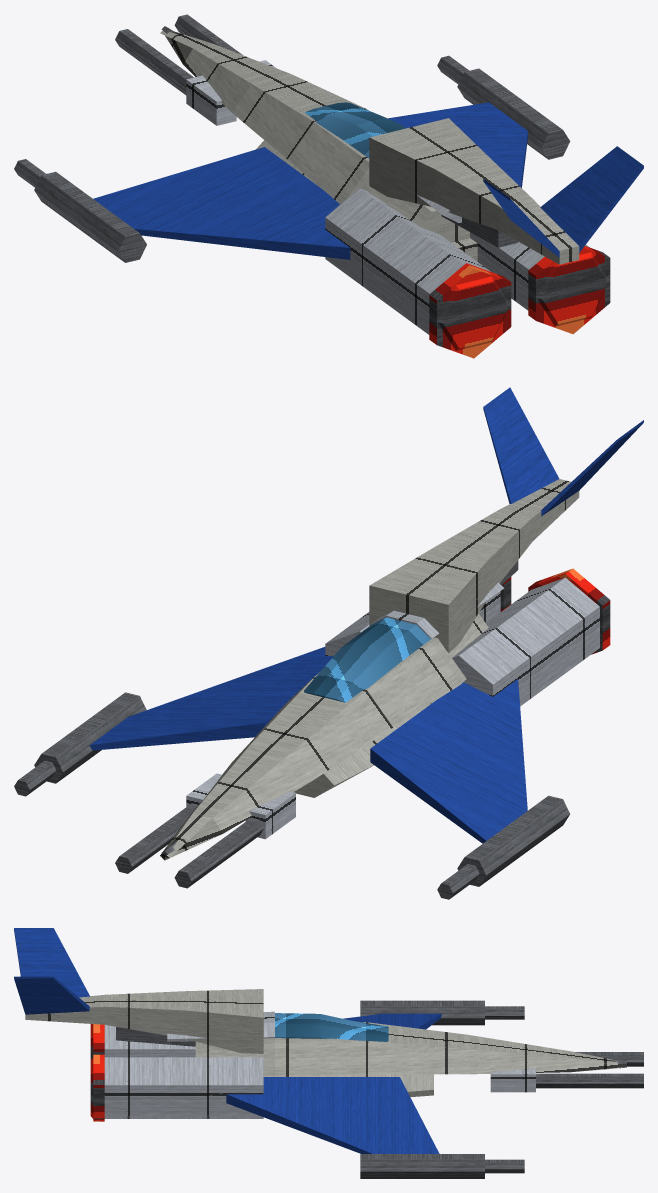
Rendered from raptor.glb.
The picture shows the model from 3 angles, top to bottom: view 1: azimuth 30°, elevation 25°; view 2: azimuth 150°, elevation 25°; view 3: azimuth 270°, elevation 25°; orthographic projection. The views are drawn at different scales.
Visible parts, largest first — view 1: wing, fuselage, tail_boom, booster, stabiliser.001, wing.001, wing_pod, exhaust, exhaust.001, wing_pod.001, canopy, booster_ring (+10 smaller); view 2: fuselage, wing, tail_boom, booster, wing.001, canopy, stabiliser.001, wing_pod, wing_pod.001, nose_gun, belly, nose_gun.001 (+7 smaller); view 3: fuselage, wing.001, booster.001, tail_boom, wing_pod.001, stabiliser, canopy, wing_pod, stabiliser.001, nose_gun.001, booster, gun_fairing.001 (+9 smaller).
Boxes of the visible parts, bbox=[...] form: wing: bbox=[93, 147, 350, 259]; fuselage: bbox=[160, 30, 469, 242]; tail_boom: bbox=[369, 118, 579, 264]; booster: bbox=[325, 188, 490, 334]; stabiliser.001: bbox=[540, 146, 643, 252]; wing.001: bbox=[388, 102, 527, 187]; wing_pod: bbox=[34, 171, 146, 262]; exhaust: bbox=[438, 276, 510, 350]; exhaust.001: bbox=[537, 252, 609, 326]; wing_pod.001: bbox=[457, 68, 570, 159]; canopy: bbox=[305, 102, 405, 158]; booster_ring: bbox=[429, 263, 511, 358]; fuselage: bbox=[160, 613, 488, 860]; wing: bbox=[370, 679, 527, 843]; tail_boom: bbox=[369, 479, 579, 653]; booster: bbox=[452, 577, 599, 706]; wing.001: bbox=[89, 647, 333, 750]; canopy: bbox=[304, 617, 430, 702]; stabiliser.001: bbox=[483, 387, 559, 503]; wing_pod: bbox=[457, 795, 569, 886]; wing_pod.001: bbox=[34, 692, 146, 783]; nose_gun: bbox=[174, 818, 263, 888]; belly: bbox=[294, 701, 434, 797]; nose_gun.001: bbox=[115, 803, 197, 873]; fuselage: bbox=[195, 1022, 626, 1076]; wing.001: bbox=[226, 1077, 439, 1153]; booster.001: bbox=[104, 1057, 263, 1118]; tail_boom: bbox=[25, 989, 263, 1053]; wing_pod.001: bbox=[360, 1154, 484, 1178]; stabiliser: bbox=[14, 928, 89, 997]; canopy: bbox=[275, 1013, 388, 1041]; wing_pod: bbox=[360, 1000, 484, 1025]; stabiliser.001: bbox=[14, 976, 89, 1014]; nose_gun.001: bbox=[536, 1073, 643, 1088]; booster: bbox=[104, 1025, 195, 1057]; gun_fairing.001: bbox=[490, 1068, 535, 1092].
Bounding box in the file's own units: 68.4 × 29.43 × 111.
8 materials, 8 textured.
